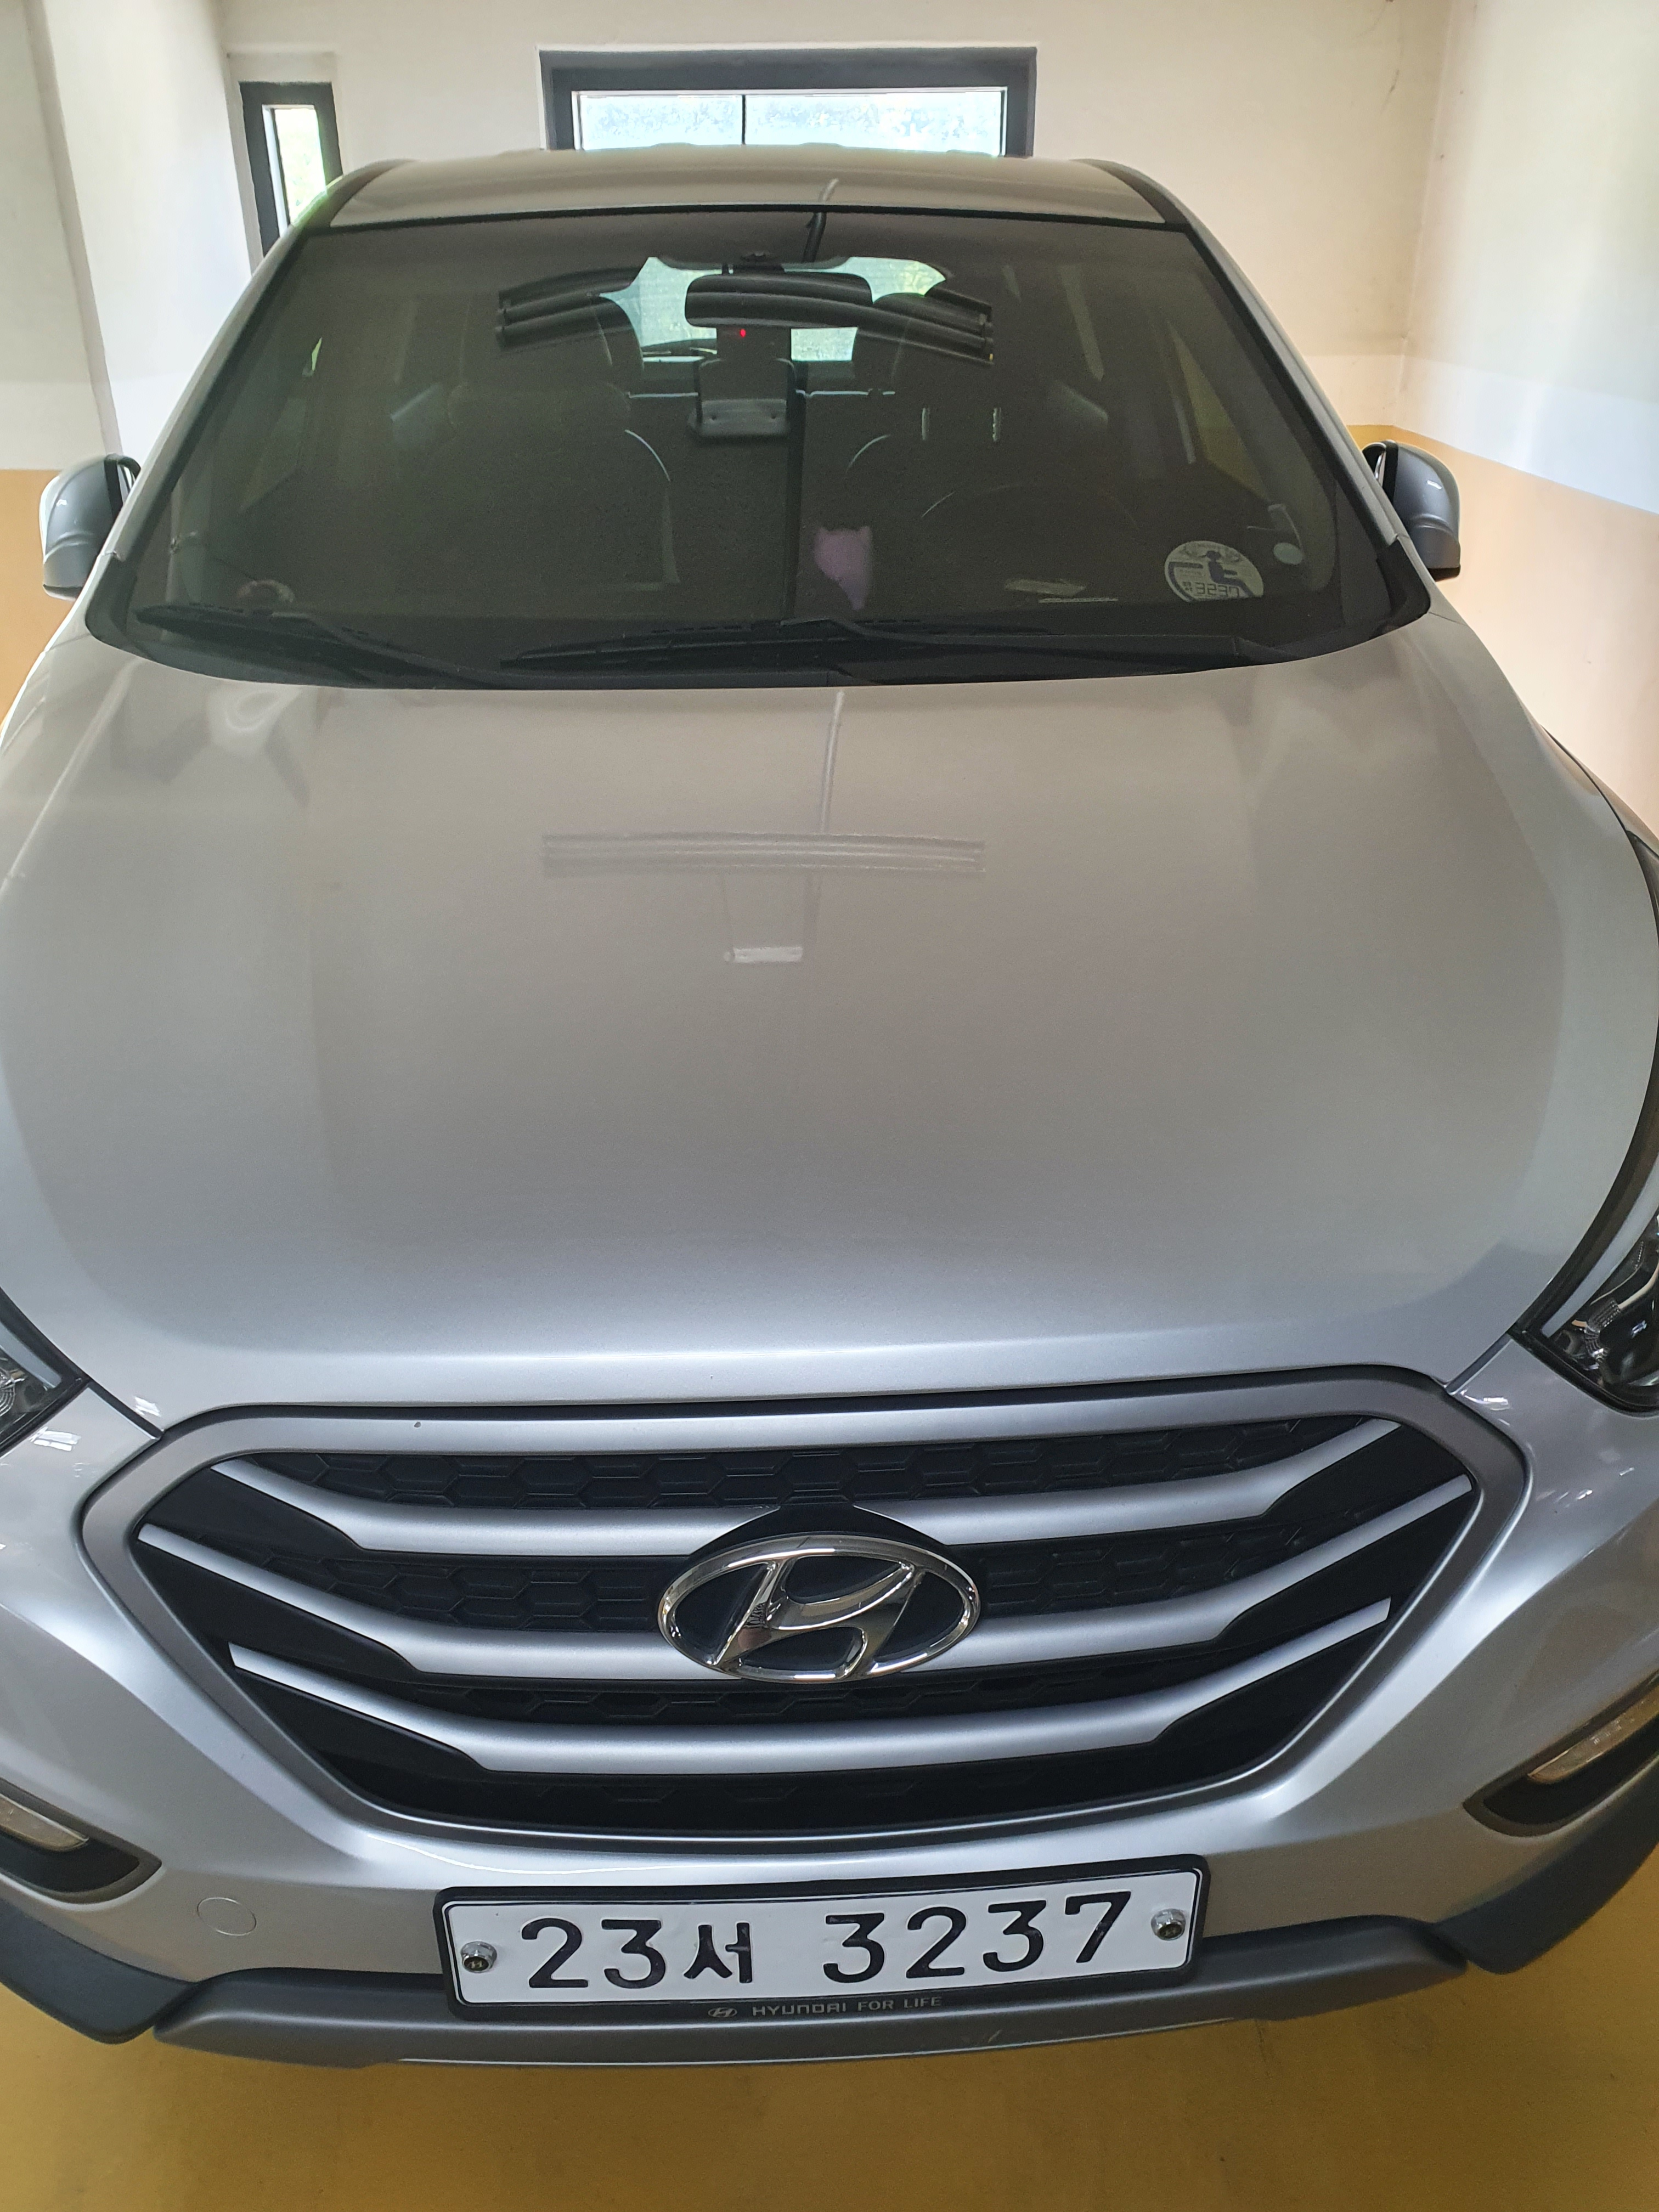disabled_parking: (1161, 528, 1270, 604)
